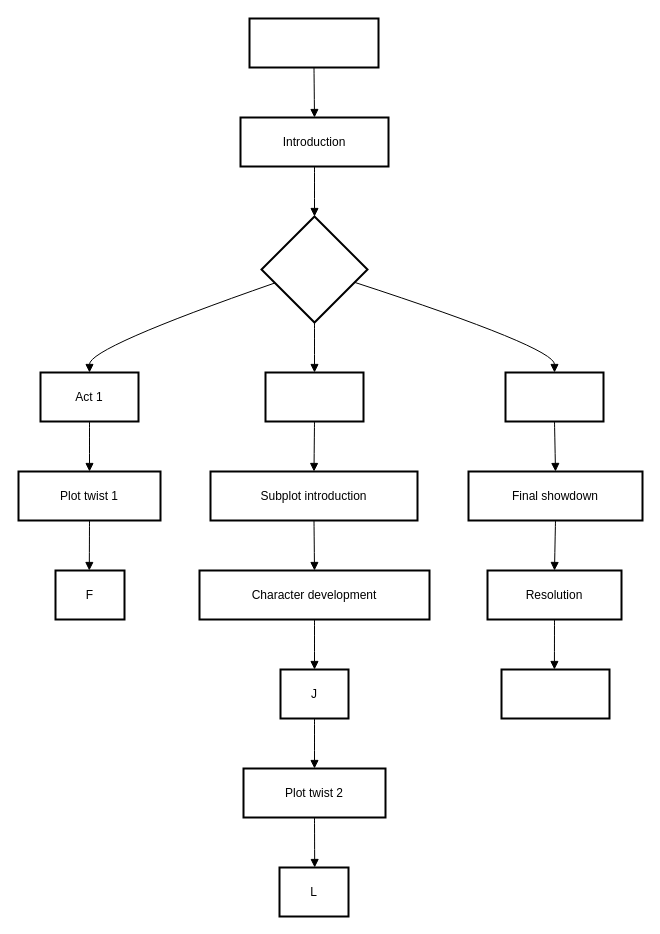
The diagram is 660 pixels wide and 934 high, and some of its shapes have lost their labels. Each missing label, with the centre of its shape:
Act 2: pixel 314 396
Act 3: pixel 554 396
Beginning: pixel 313 42
Conflict: pixel 314 269
Ending: pixel 555 693
